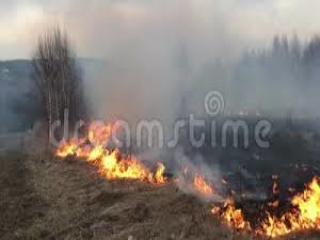fire: (51, 123, 172, 186), (220, 187, 320, 236), (189, 170, 215, 195)
smoke: (70, 28, 314, 125)
